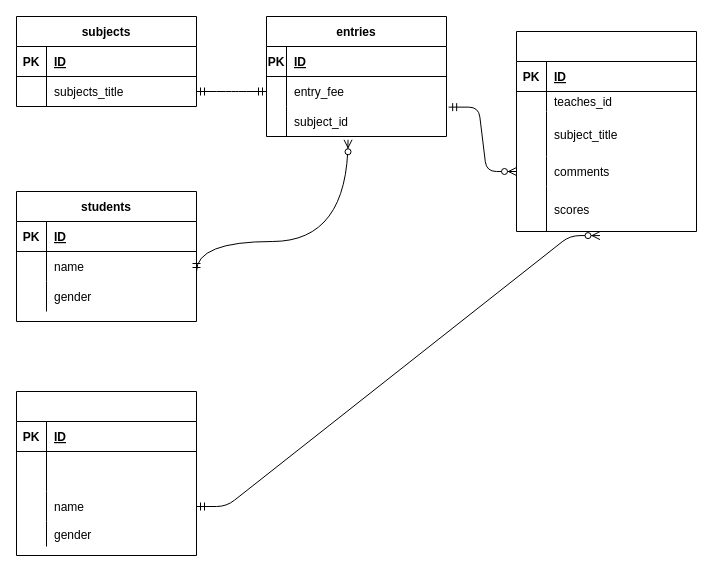
The diagram is 713 pixels wide and 572 high, and some of its shapes have lost their labels. Each missing label, with the box of its shape:
scores_comments: (516, 30, 696, 232)
teachers: (16, 390, 196, 556)
